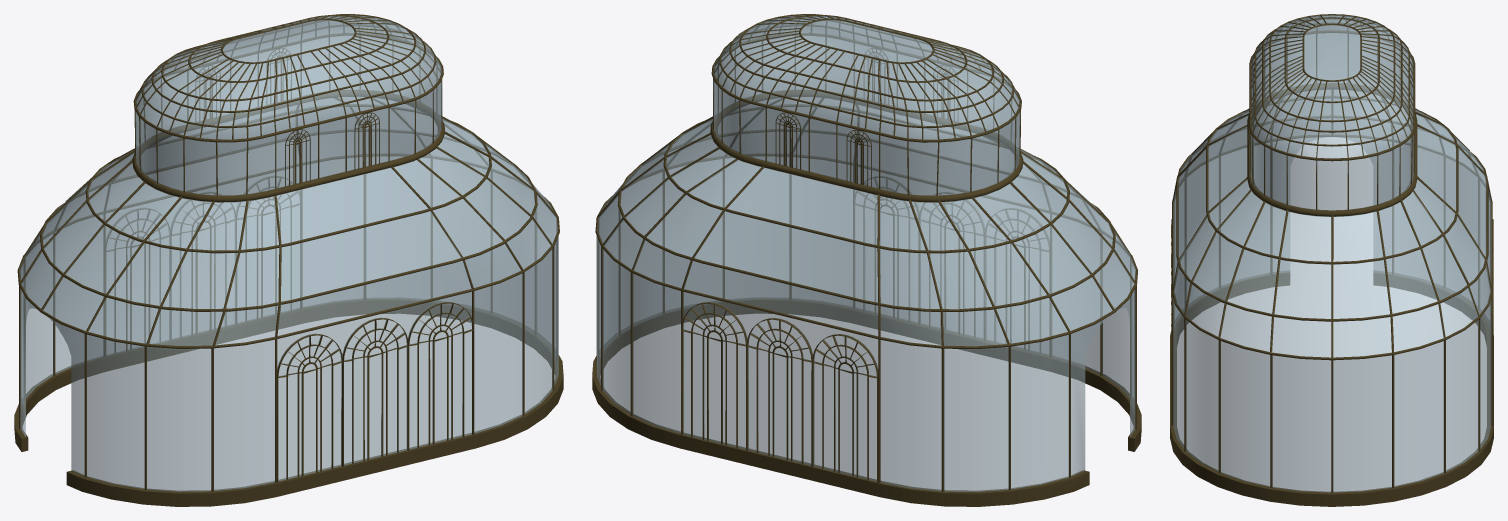
Rendered from Greenhouse2.fbx.
The picture shows the model from 3 angles, left to right: view 1: azimuth 30°, elevation 25°; view 2: azimuth 150°, elevation 25°; view 3: azimuth 270°, elevation 25°; orthographic projection. The views are drawn at different scales.
Visible parts, largest first — view 1: korpus_2; view 2: korpus_2; view 3: korpus_2.
Boxes of the visible parts, bbox=[...] form: korpus_2: bbox=[14, 14, 563, 506]; korpus_2: bbox=[592, 14, 1141, 506]; korpus_2: bbox=[1170, 14, 1493, 506].
Bounding box in the file's own units: 2356 × 1657 × 1426.
